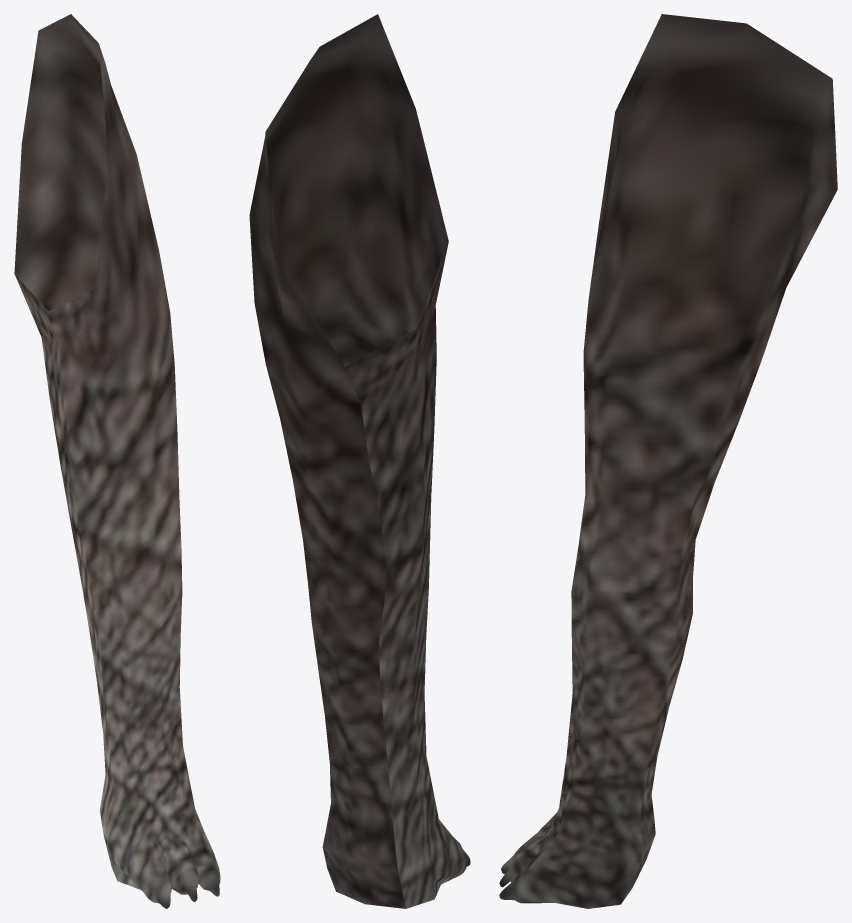
Rendered from piernaDI.obj.
3 renders of one model, left to right at view 1: azimuth 30°, elevation 25°; view 2: azimuth 150°, elevation 25°; view 3: azimuth 270°, elevation 25°, orthographic. The views are drawn at different scales.
Visible parts, largest first — view 1: PiernaDI; view 2: PiernaDI; view 3: PiernaDI.
Boxes of the visible parts, box(x1,y1,x2,y2) form: PiernaDI: box(14, 14, 220, 908); PiernaDI: box(249, 14, 470, 908); PiernaDI: box(499, 14, 837, 908).
Bounding box in the file's own units: 0.439 × 3.05 × 1.08.
Materials: 1 (1 with a texture image).
